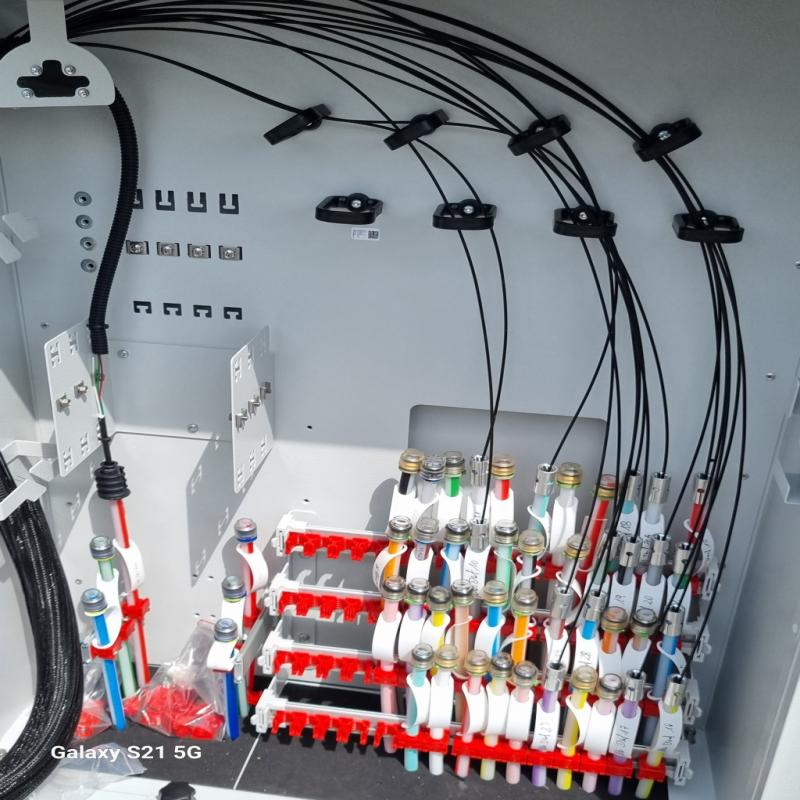NT-Gehause: (6, 0, 789, 798)
